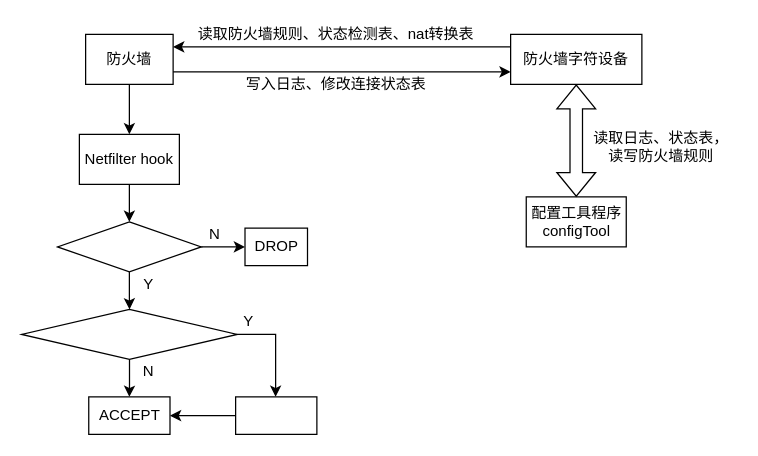
The diagram is 758 pixels wide and 456 high, and some of its shapes have lost their labels. The shapes that lost their labels are listed below. From the top down, each one's centre as x and y in pixels, then its label:
At [128,246]: "是否允许通过？".
At [128,333]: "是否需要进行nat转换".
At [275,415]: "NAT转换".
